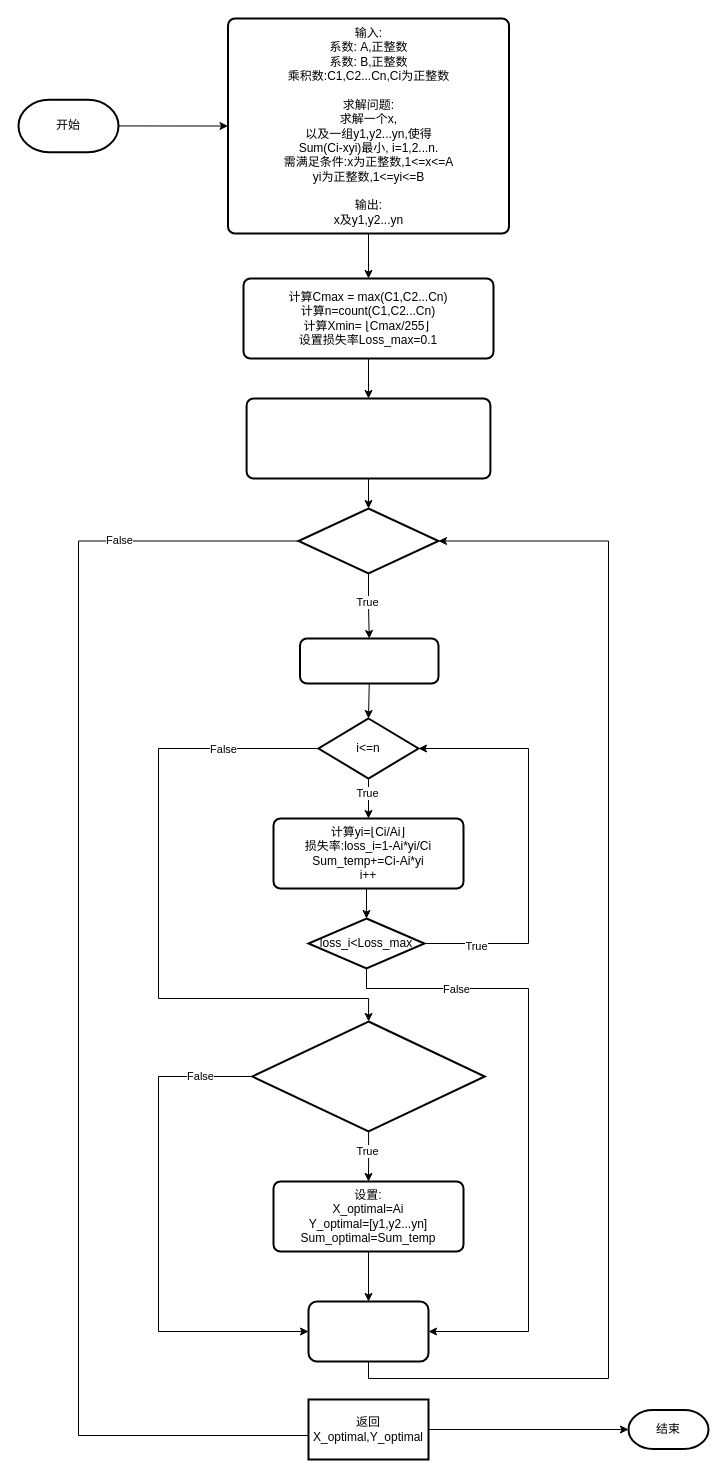
The diagram is 726 pixels wide and 1477 high, and some of its shapes have lost their labels. The box of each missing label's shape, as (x1, y1, x2, y2) in pixels:
Ai++: (307, 1300, 429, 1362)
Ai<=A: (297, 507, 439, 574)
Sum_temp<Sum_optimal 且 all(loss_i)<=Loss_max: (251, 1020, 485, 1132)
Sum_temp=0 i=0: (298, 637, 439, 684)
设置Ai=Xmin X_optimal=0 Y_optimal=[] Sum_optimal=Cmax*n: (245, 397, 491, 479)
